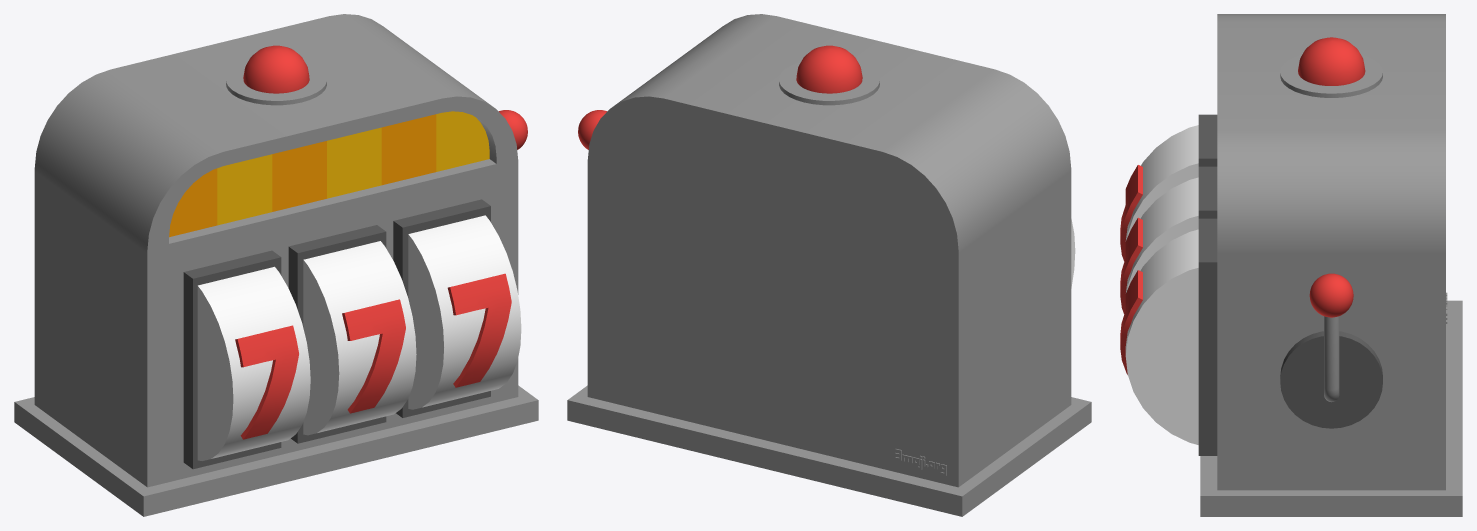
File: slot_machine.gltf
3 views of the same model, side by side, from view 1: azimuth 30°, elevation 25°; view 2: azimuth 150°, elevation 25°; view 3: azimuth 270°, elevation 25° (orthographic).
Visible parts, largest first — view 1: Cube.844; view 2: Cube.844; view 3: Cube.844.
Boxes of the visible parts, x1=… form: Cube.844: x1=14, y1=14, x2=538, y2=516; Cube.844: x1=567, y1=14, x2=1091, y2=516; Cube.844: x1=1120, y1=14, x2=1462, y2=516.
Size of the model in its own units: 2.3 by 1.84 by 1.51.
Materials: 1 (1 with a texture image).
